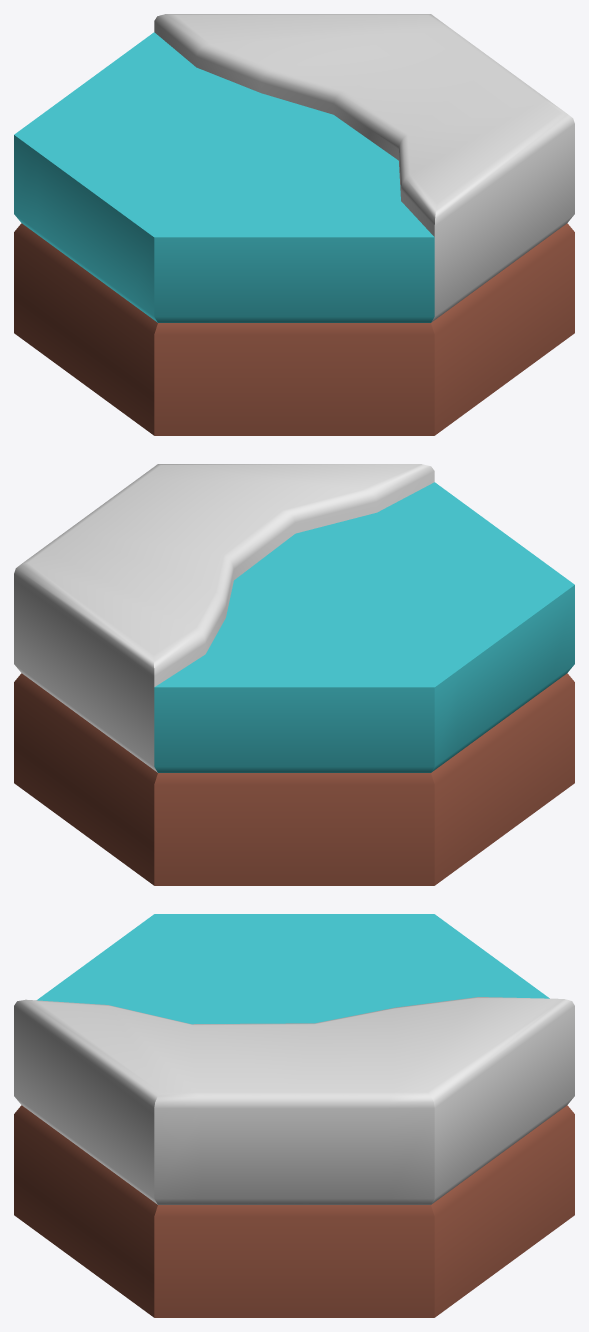
File: hex_snow_waterC_detail.gltf.glb
The picture shows the model from 3 angles, top to bottom: view 1: azimuth 30°, elevation 25°; view 2: azimuth 150°, elevation 25°; view 3: azimuth 270°, elevation 25°; orthographic projection.
Visible parts, largest first — view 1: hex_snow_waterC_detail; view 2: hex_snow_waterC_detail; view 3: hex_snow_waterC_detail.
Boxes of the visible parts, x1,y1,x2,y2 form: hex_snow_waterC_detail: [14, 14, 574, 435]; hex_snow_waterC_detail: [14, 464, 574, 885]; hex_snow_waterC_detail: [14, 914, 574, 1317].
Size of the model in its own units: 2 by 1 by 2.31.
